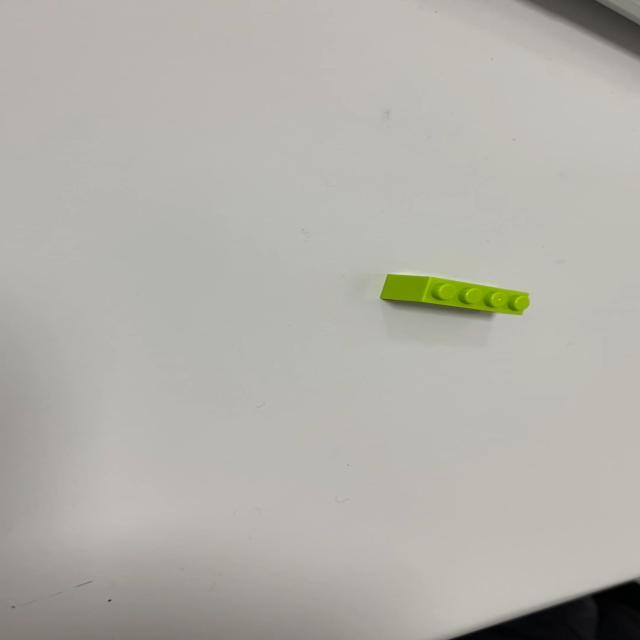C4x1x1: (378, 272, 530, 316)
